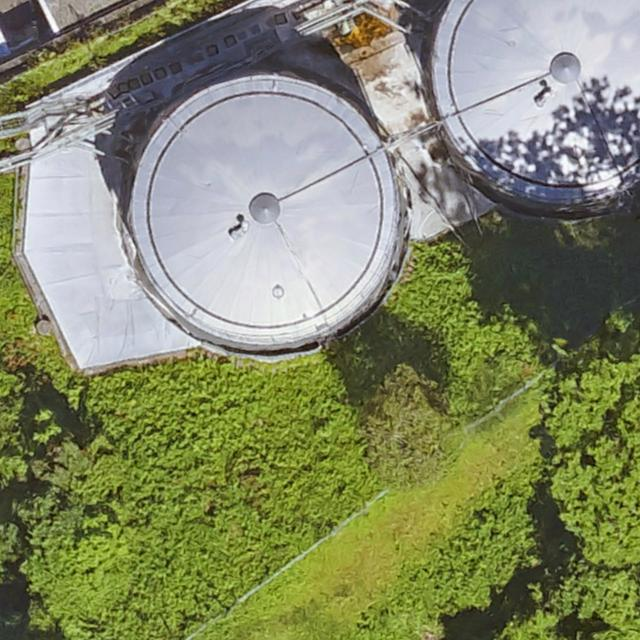tree: (545, 314, 640, 566), (19, 503, 127, 621), (355, 367, 457, 483), (489, 568, 640, 640), (35, 426, 125, 508), (0, 365, 27, 496)
